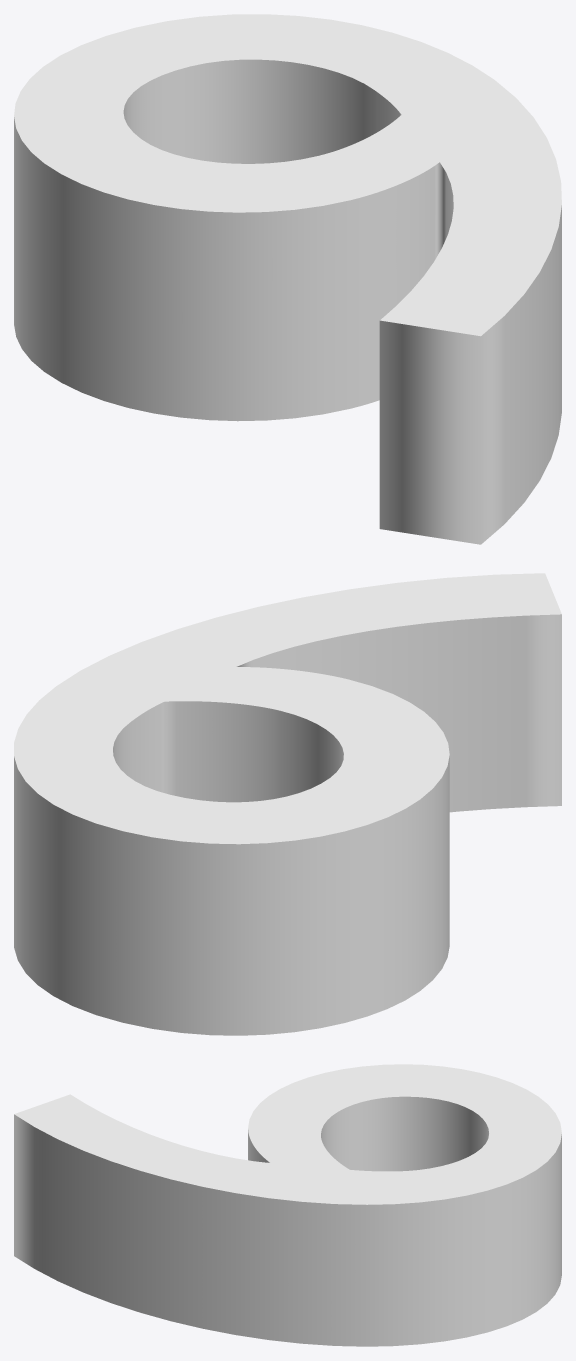
3 views of the same model, one above another, from view 1: azimuth 30°, elevation 25°; view 2: azimuth 150°, elevation 25°; view 3: azimuth 270°, elevation 25° (orthographic). The views are drawn at different scales.
Parts seen in each view (by area): view 1: テキスト; view 2: テキスト; view 3: テキスト.
Boxes of the visible parts, x1=… form: テキスト: x1=14, y1=14, x2=561, y2=544; テキスト: x1=14, y1=573, x2=561, y2=1035; テキスト: x1=14, y1=1064, x2=561, y2=1346.
Bounding box in the file's own units: 0.425 × 0.2 × 0.7.
1 material, 1 textured.
